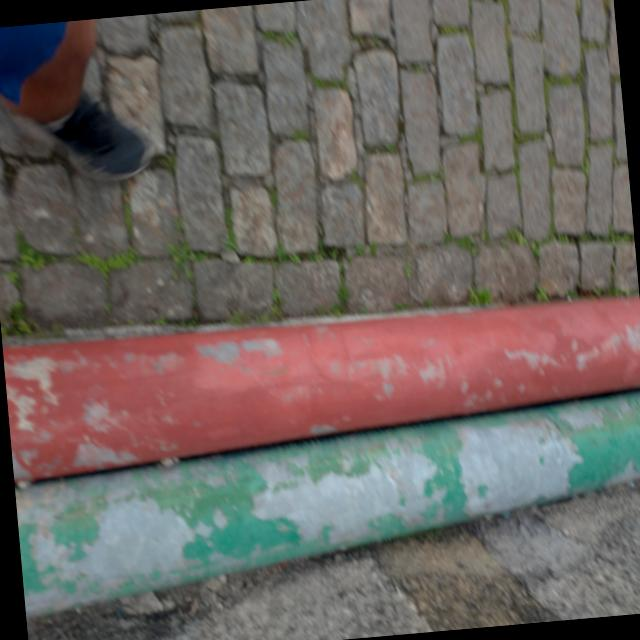gas: (15, 394, 640, 621), (2, 293, 640, 487)
